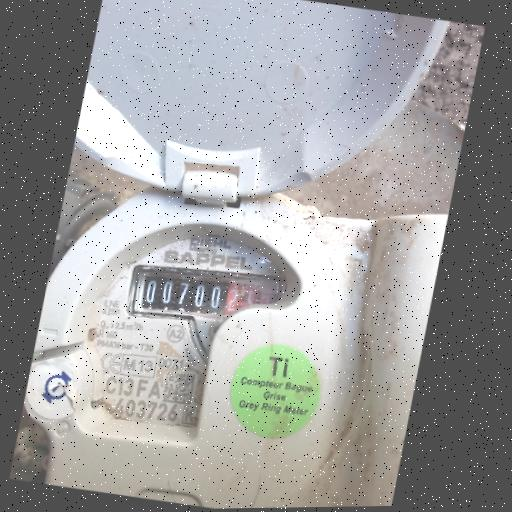0: (203, 277, 230, 316), (154, 274, 180, 312), (187, 277, 212, 316), (138, 274, 164, 310)
2: (221, 281, 246, 318)
5: (240, 282, 262, 309)
7: (171, 276, 196, 314)
border_water_meter_number: (121, 253, 287, 339)
